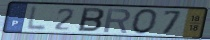2: (53, 8, 76, 31)
7: (162, 10, 184, 35)
B: (76, 7, 106, 34)
L: (24, 5, 48, 32)
O: (130, 8, 160, 36)
R: (102, 7, 133, 34)
